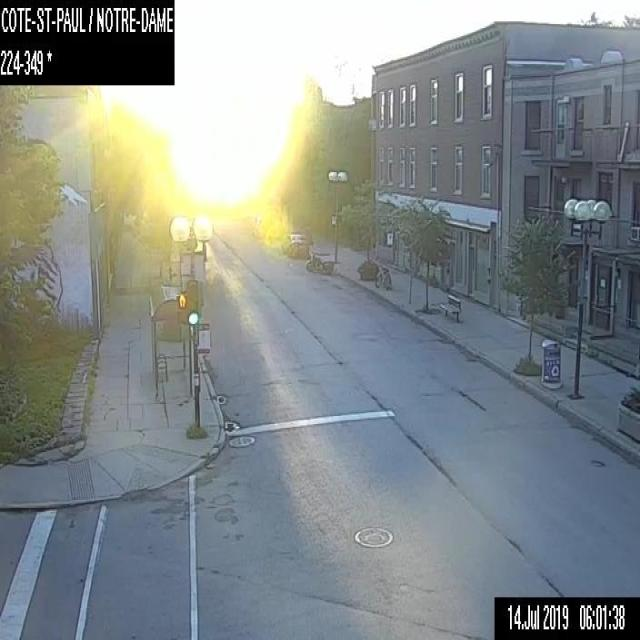vehicle: (305, 253, 335, 274), (281, 233, 307, 257)
